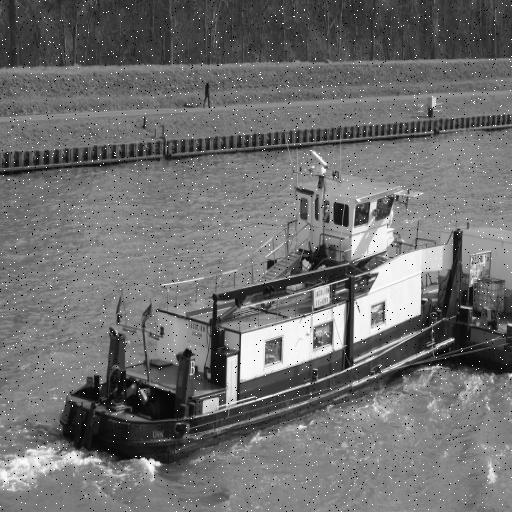tugboat: (58, 149, 469, 475)
